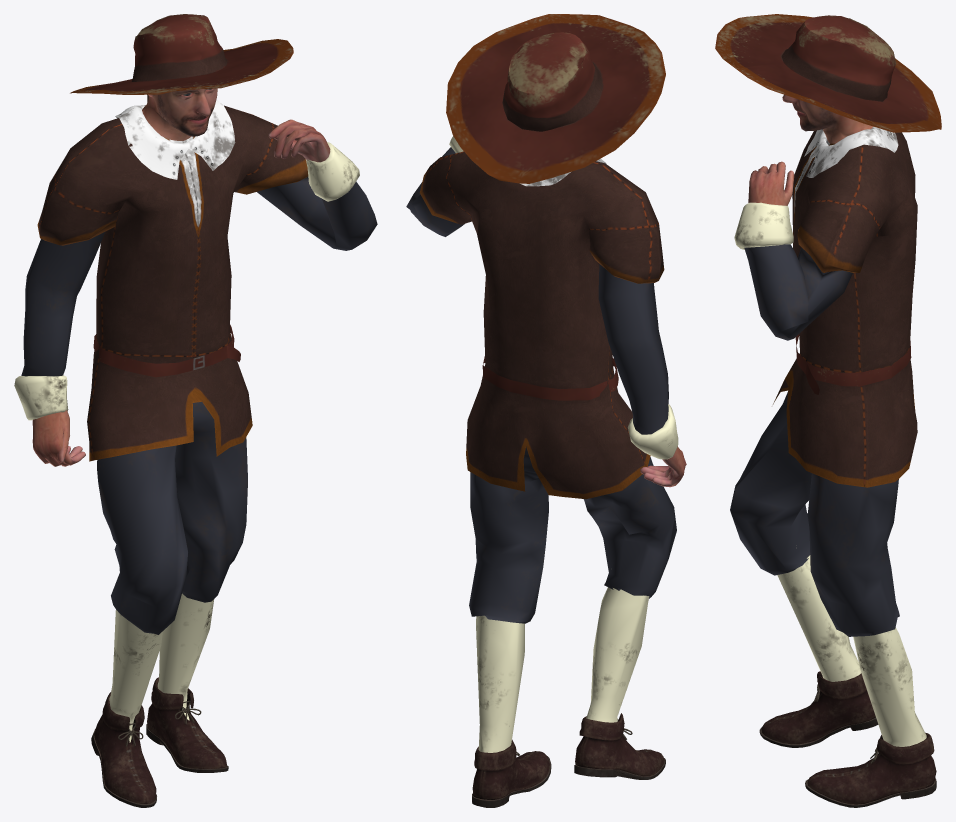
File: Walking2SoldierSample.fbx
The picture shows the model from 3 angles, left to right: view 1: azimuth 30°, elevation 25°; view 2: azimuth 150°, elevation 25°; view 3: azimuth 270°, elevation 25°; orthographic projection. The views are drawn at different scales.
Visible parts, largest first — view 1: Walking2SoldierLOD0; view 2: Walking2SoldierLOD0; view 3: Walking2SoldierLOD0.
Boxes of the visible parts, x1,y1,x2,y2 form: Walking2SoldierLOD0: [14, 14, 377, 807]; Walking2SoldierLOD0: [406, 14, 686, 807]; Walking2SoldierLOD0: [715, 14, 941, 807].
Size of what is drawn, in the model's own units: 80.51 by 186 by 50.18.
